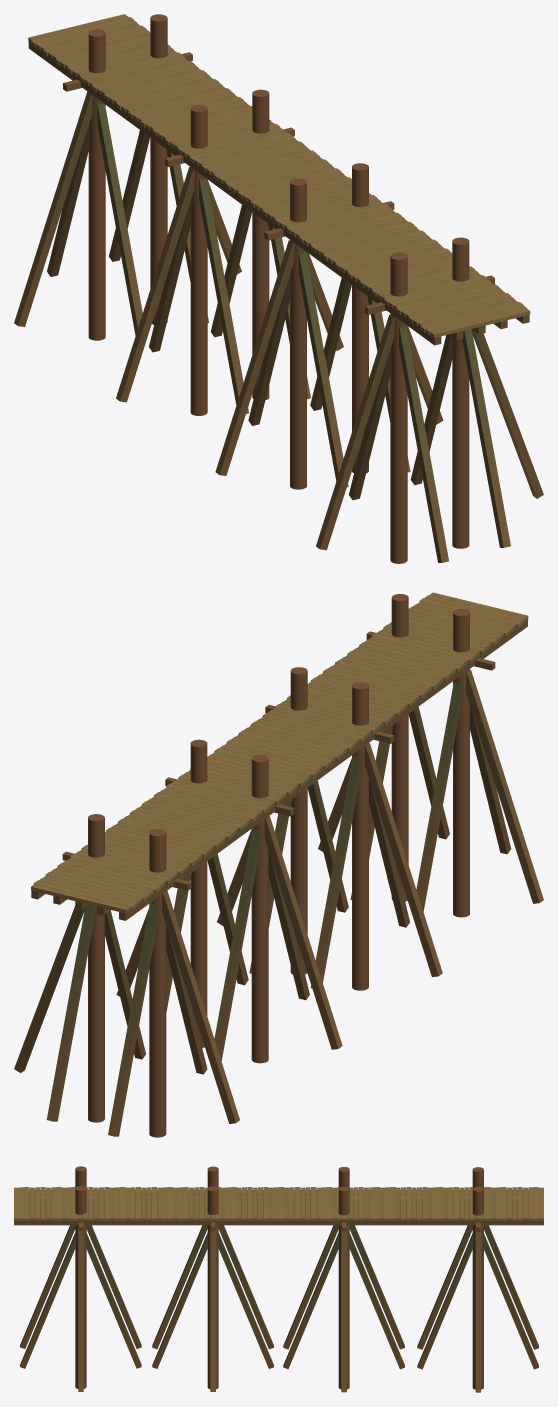
3 renders of one model, top to bottom at view 1: azimuth 30°, elevation 25°; view 2: azimuth 150°, elevation 25°; view 3: azimuth 270°, elevation 25°, orthographic. The views are drawn at different scales.
Visible parts, largest first — view 1: upright, upright.006, upright.004, upright.002, upright.001, upright.007, transverse_brace.002, transverse_brace, transverse_brace.004, transverse_brace.006, upright.005, longitudinal_brace (+18 smaller); view 2: upright.006, upright.004, upright, upright.002, upright.007, upright.005, upright.001, transverse_brace.002, transverse_brace.004, upright.003, transverse_brace.006, transverse_brace (+18 smaller); view 3: bearer.005, upright.001, upright.005, upright.007, upright.003, transverse_brace.005, longitudinal_brace.003, longitudinal_brace.014, transverse_brace.007, longitudinal_brace.010, transverse_brace.001, longitudinal_brace.006 (+17 smaller).
Part boxes in pixels (bbox=[...]): upright: bbox=[390, 252, 407, 563]; upright.006: bbox=[88, 29, 105, 340]; upright.004: bbox=[190, 104, 207, 415]; upright.002: bbox=[290, 178, 306, 489]; upright.001: bbox=[452, 237, 469, 548]; upright.007: bbox=[150, 14, 167, 324]; transverse_brace.002: bbox=[215, 240, 294, 475]; transverse_brace: bbox=[316, 314, 394, 550]; transverse_brace.004: bbox=[116, 166, 194, 402]; transverse_brace.006: bbox=[14, 91, 92, 326]; upright.005: bbox=[252, 89, 269, 400]; longitudinal_brace: bbox=[399, 325, 448, 562]; upright.006: bbox=[149, 829, 166, 1137]; upright.004: bbox=[251, 754, 268, 1063]; upright: bbox=[453, 609, 469, 917]; upright.002: bbox=[352, 682, 368, 990]; upright.007: bbox=[88, 814, 104, 1122]; upright.005: bbox=[190, 739, 207, 1047]; upright.001: bbox=[391, 594, 408, 901]; transverse_brace.002: bbox=[364, 743, 442, 977]; transverse_brace.004: bbox=[264, 816, 342, 1049]; upright.003: bbox=[290, 667, 307, 974]; transverse_brace.006: bbox=[162, 890, 239, 1123]; transverse_brace: bbox=[466, 670, 543, 903]; bearer.005: bbox=[14, 1218, 543, 1225]; upright.001: bbox=[75, 1186, 86, 1388]; upright.005: bbox=[338, 1186, 349, 1389]; upright.007: bbox=[472, 1187, 483, 1389]; upright.003: bbox=[207, 1186, 218, 1388]; transverse_brace.005: bbox=[341, 1229, 346, 1392]; longitudinal_brace.003: bbox=[85, 1233, 141, 1368]; longitudinal_brace.014: bbox=[417, 1234, 473, 1369]; transverse_brace.007: bbox=[475, 1229, 480, 1392]; longitudinal_brace.010: bbox=[283, 1233, 339, 1369]; transverse_brace.001: bbox=[78, 1229, 83, 1391]; longitudinal_brace.006: bbox=[152, 1233, 208, 1368].
Size of the model in its own units: 3.22 by 4.13 by 10.
